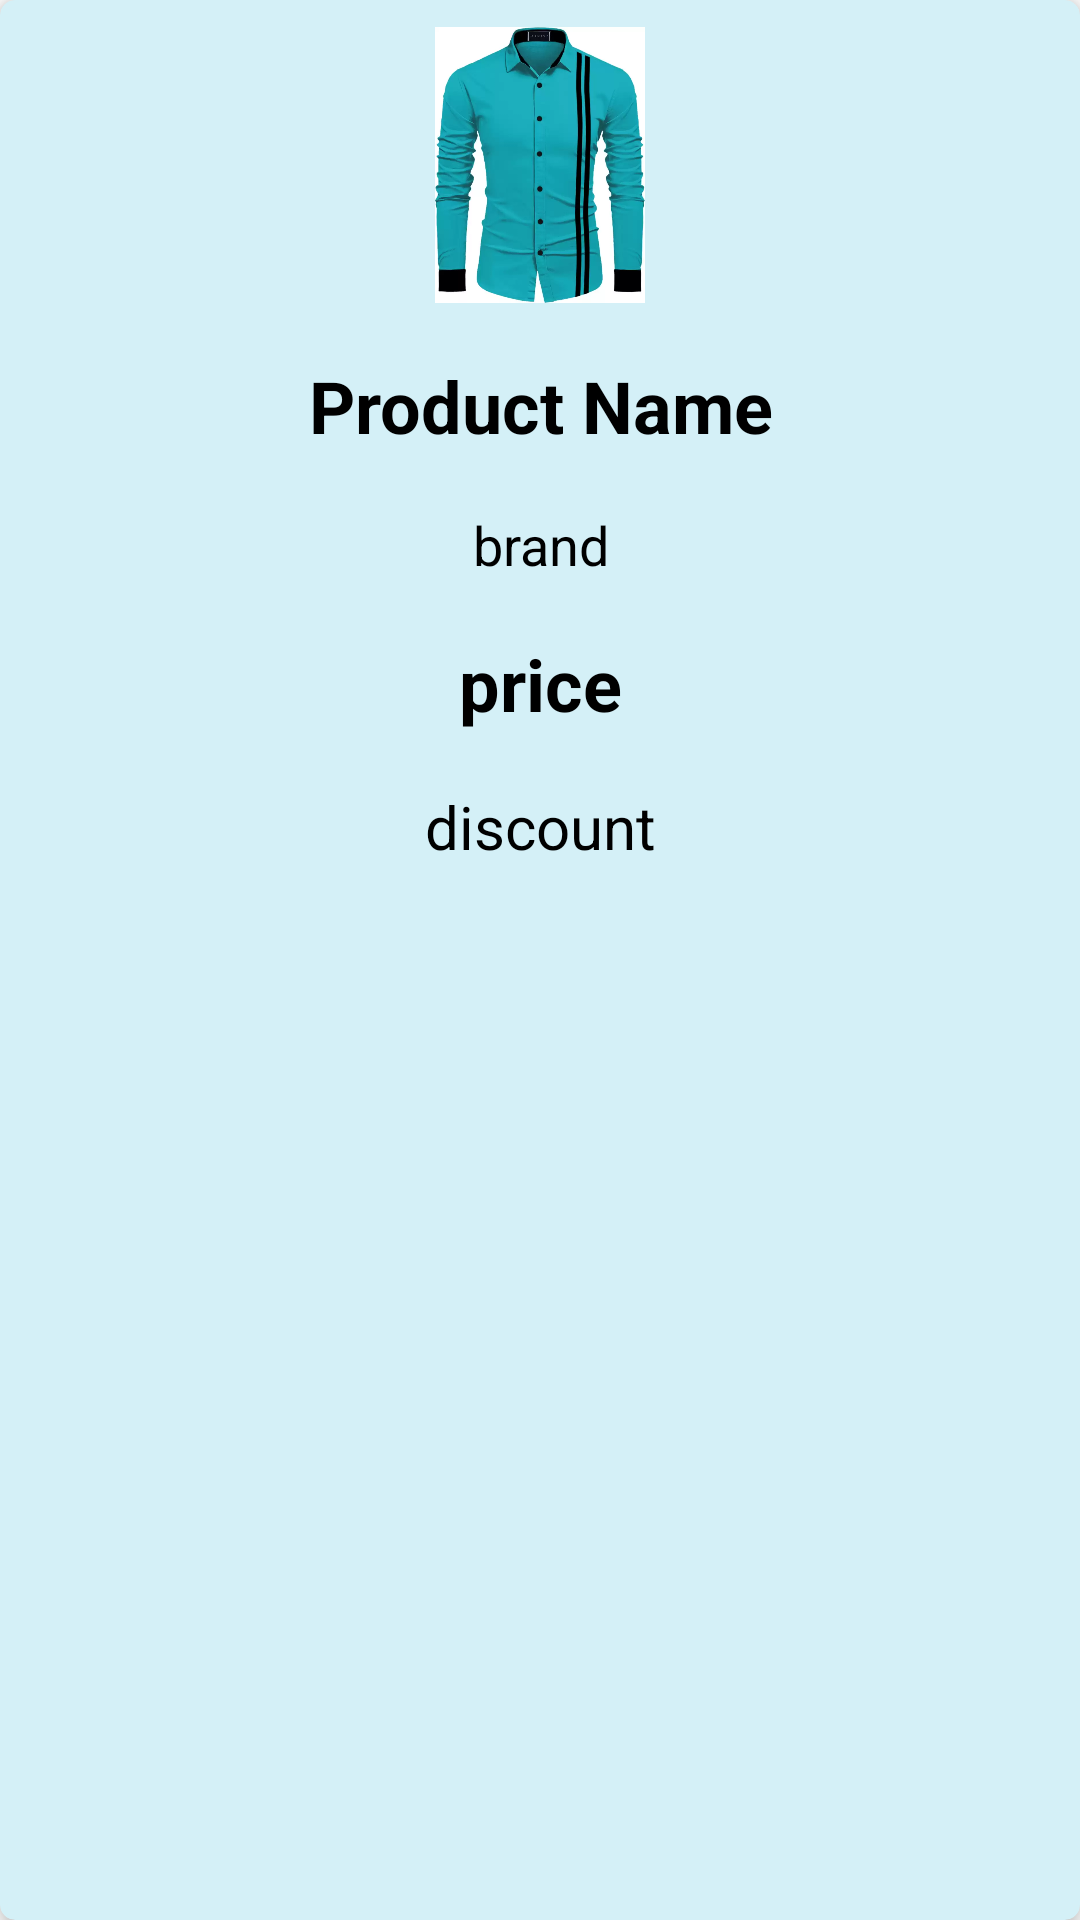

Locate icon controls on the screen. Image size 1080*1920, boxes as (x1, y1, x2, y2).
shirt: (435, 27, 645, 303)
